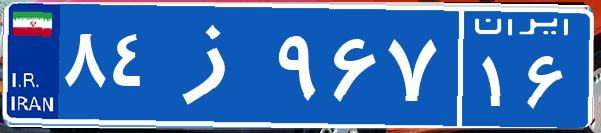1: (475, 38, 525, 113)
4: (110, 28, 158, 105)
6: (330, 28, 385, 110), (525, 38, 570, 115)
7: (385, 28, 445, 110)
8: (57, 26, 110, 107)
9: (273, 28, 330, 110)
ز: (158, 15, 273, 115)
